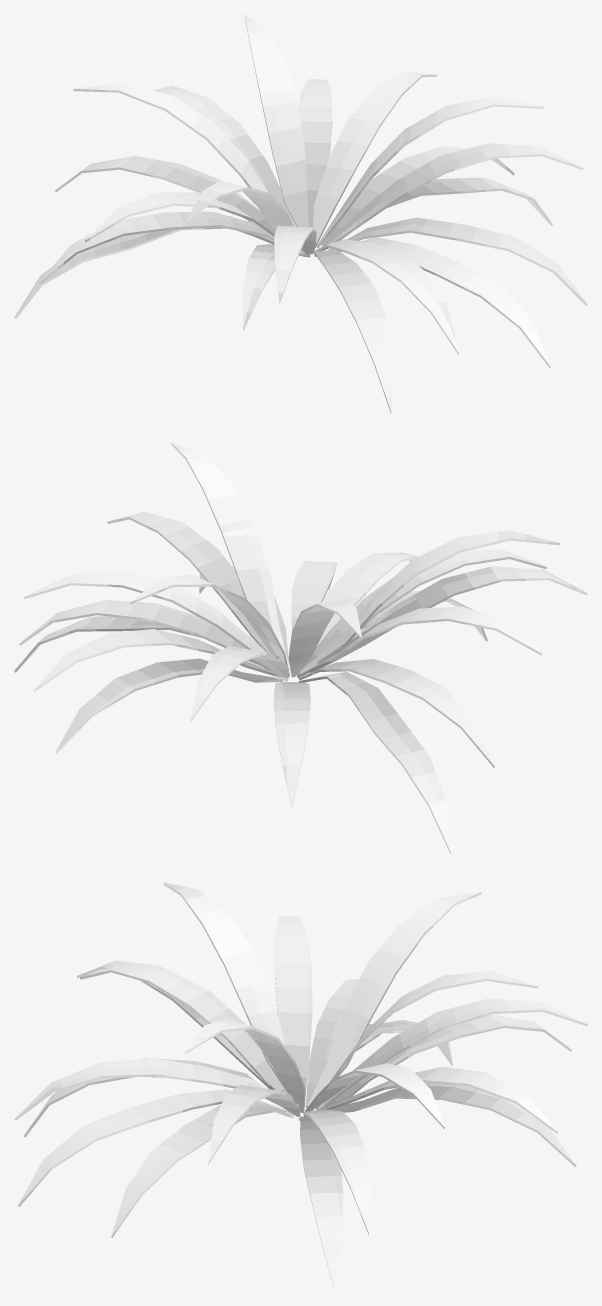
Rendered from Plant.glb.
The picture shows the model from 3 angles, top to bottom: view 1: azimuth 30°, elevation 25°; view 2: azimuth 150°, elevation 25°; view 3: azimuth 270°, elevation 25°; orthographic projection. The views are drawn at different scales.
Parts seen in each view (by area): view 1: Plant; view 2: Plant; view 3: Plant.
Part boxes in pixels (left/top/right/bottom): Plant: left=14, top=14, right=587, bottom=413; Plant: left=14, top=442, right=587, bottom=853; Plant: left=14, top=882, right=587, bottom=1290.
Bounding box in the file's own units: 0.9423 × 0.3931 × 0.9164.
Materials: 1 (1 with a texture image).
